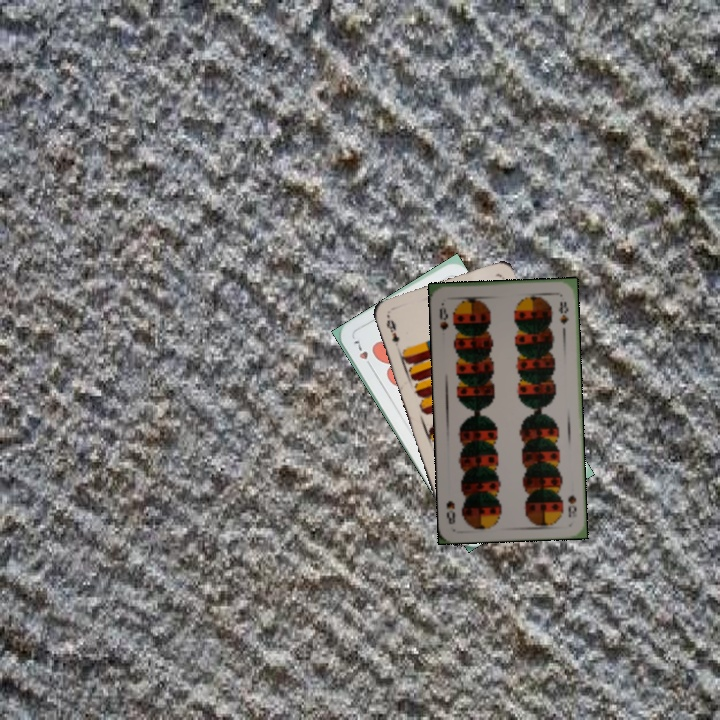E9: (382, 313, 402, 349)
H7: (350, 335, 375, 371)
S8: (435, 299, 451, 332), (564, 491, 579, 520)
